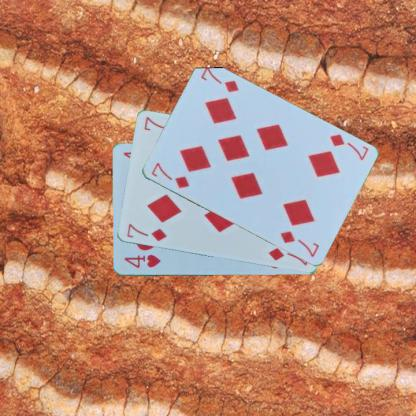4h: (122, 252, 162, 270)
7d: (326, 131, 370, 162), (148, 160, 190, 190), (124, 221, 168, 243)
